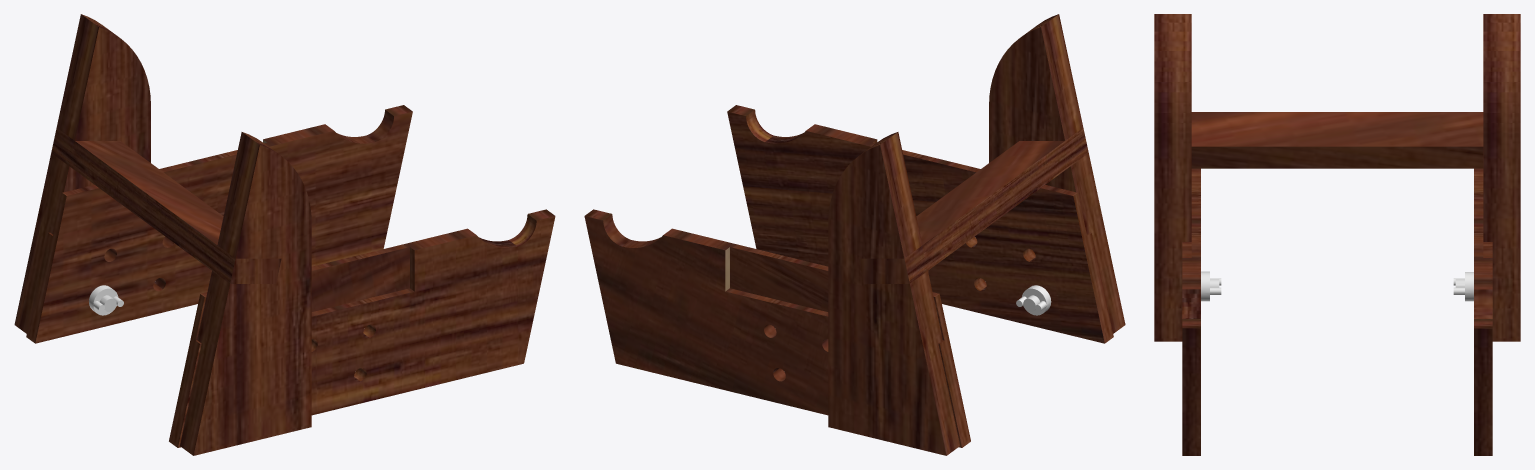
The model's file is base-alta-de-laptop-saman.glb.
The picture shows the model from 3 angles, left to right: view 1: azimuth 30°, elevation 25°; view 2: azimuth 150°, elevation 25°; view 3: azimuth 270°, elevation 25°; orthographic projection. The views are drawn at different scales.
Bounding box in the file's own units: 0.24 × 0.18 × 0.197.
Materials: 4 (4 with a texture image).
